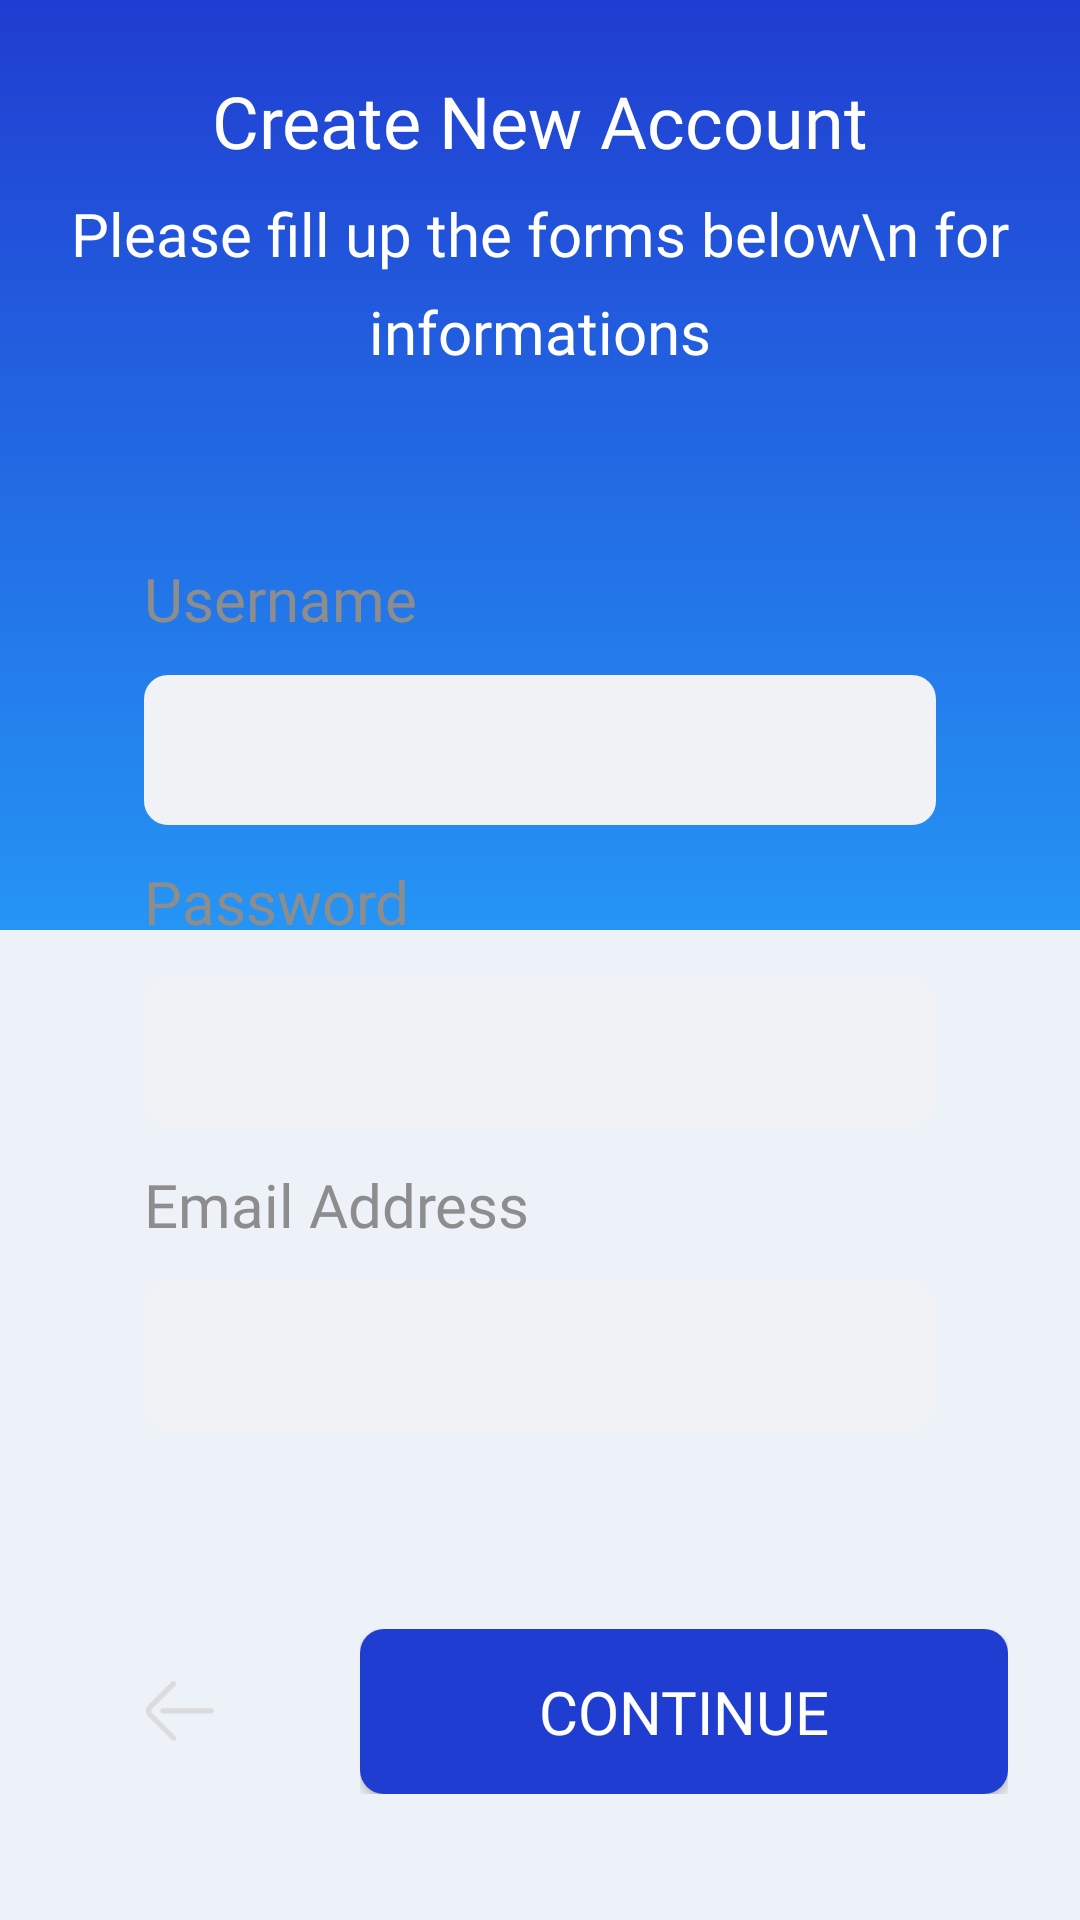

Icon click points for this 1080*1920 phone screenshot, format (x=x, y=y):
back: (x=180, y=1710)
